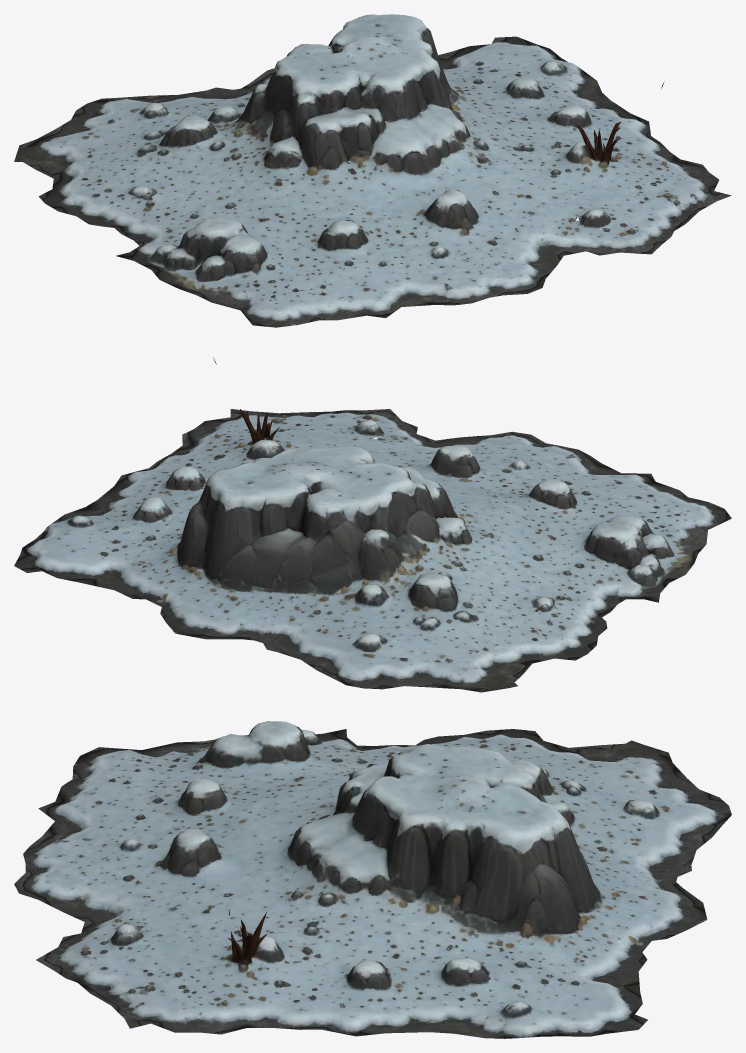
File: snow-ground-7.glb
The picture shows the model from 3 angles, top to bottom: view 1: azimuth 30°, elevation 25°; view 2: azimuth 150°, elevation 25°; view 3: azimuth 270°, elevation 25°; orthographic projection. The views are drawn at different scales.
Visible parts, largest first — view 1: geometry_0; view 2: geometry_0; view 3: geometry_0.
Part boxes in pixels (bbox=[...]): geometry_0: bbox=[14, 14, 731, 327]; geometry_0: bbox=[14, 357, 731, 692]; geometry_0: bbox=[14, 721, 731, 1038].
Bounding box in the file's own units: 0.973 × 0.1752 × 0.9532.
Materials: 1 (1 with a texture image).
